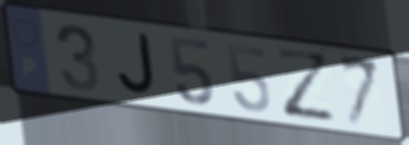3: (54, 22, 100, 93)
5: (223, 41, 273, 115), (167, 33, 216, 108)
7: (338, 52, 382, 131)
J: (115, 31, 160, 100)
Z: (271, 45, 340, 124)
